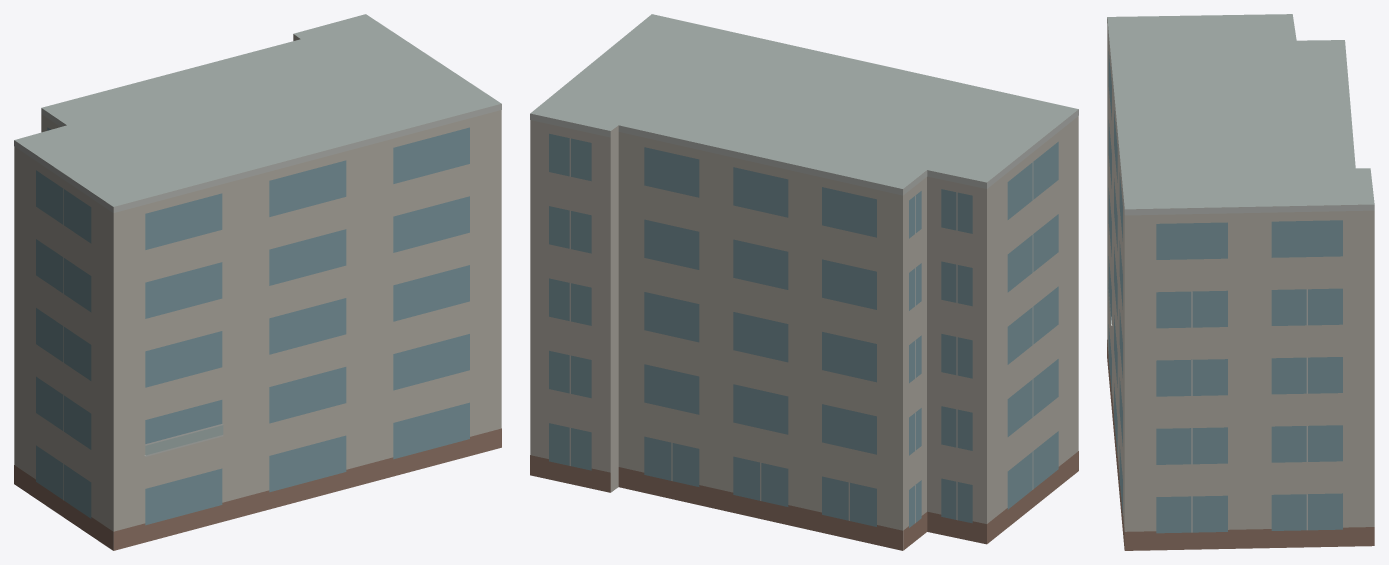
File: survey-upis-32702363.glb
The picture shows the model from 3 angles, left to right: view 1: azimuth 30°, elevation 25°; view 2: azimuth 150°, elevation 25°; view 3: azimuth 270°, elevation 25°; orthographic projection. The views are drawn at different scales.
Parts seen in each view (by area): view 1: survey-upis-32702363.tmp; view 2: survey-upis-32702363.tmp; view 3: survey-upis-32702363.tmp.
Part boxes in pixels (bbox=[...]): survey-upis-32702363.tmp: bbox=[14, 14, 501, 550]; survey-upis-32702363.tmp: bbox=[530, 14, 1078, 550]; survey-upis-32702363.tmp: bbox=[1107, 14, 1374, 550].
Size of the model in its own units: 16.69 by 13.6 by 9.66.
